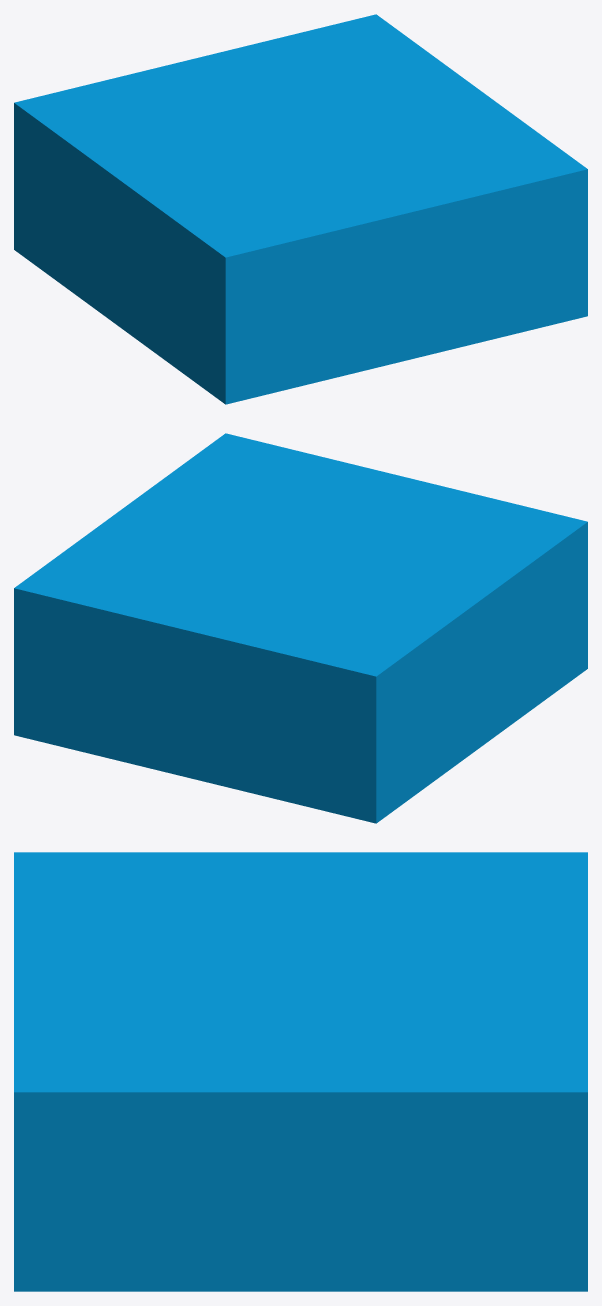
Rendered from underwater.glb.
3 views of the same model, one above another, from view 1: azimuth 30°, elevation 25°; view 2: azimuth 150°, elevation 25°; view 3: azimuth 270°, elevation 25° (orthographic). The views are drawn at different scales.
Parts seen in each view (by area): view 1: Acqua_1; view 2: Acqua_1; view 3: Acqua_1.
Part boxes in pixels (x1,y1,x2,y2): Acqua_1: (14,14,587,404); Acqua_1: (14,433,587,823); Acqua_1: (14,852,587,1291).
Size of the model in its own units: 37.59 by 14.58 by 38.03.
